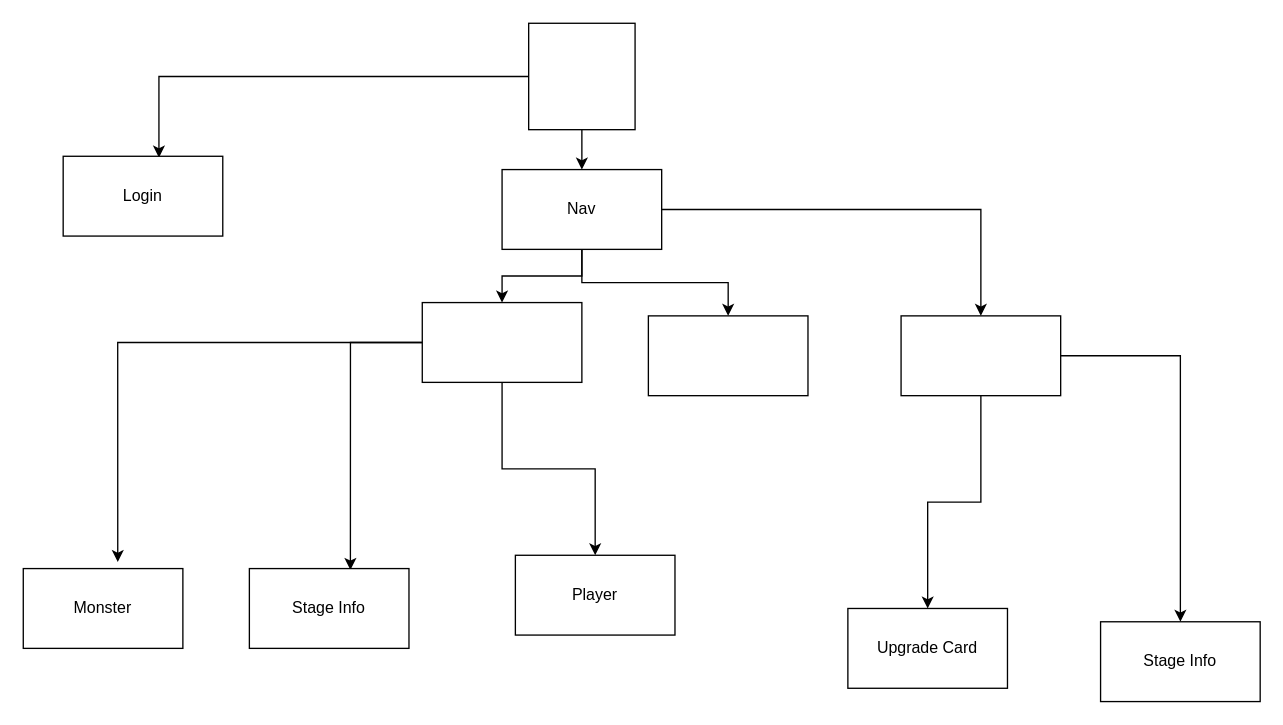
Some shapes in this 1283 by 725 pixel diagram are drawn without their labels. The centre of each missing label's shape, as x and y in pixels:
App: point 581,76
Fight: point 501,341
Profile: point 727,355
Upgrades: point 980,355
